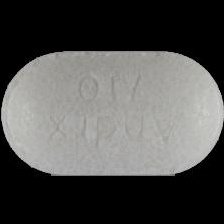54868-3671: (0, 0, 224, 224)
